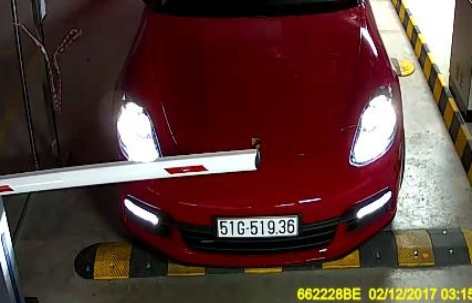plate: (213, 210, 298, 238)
